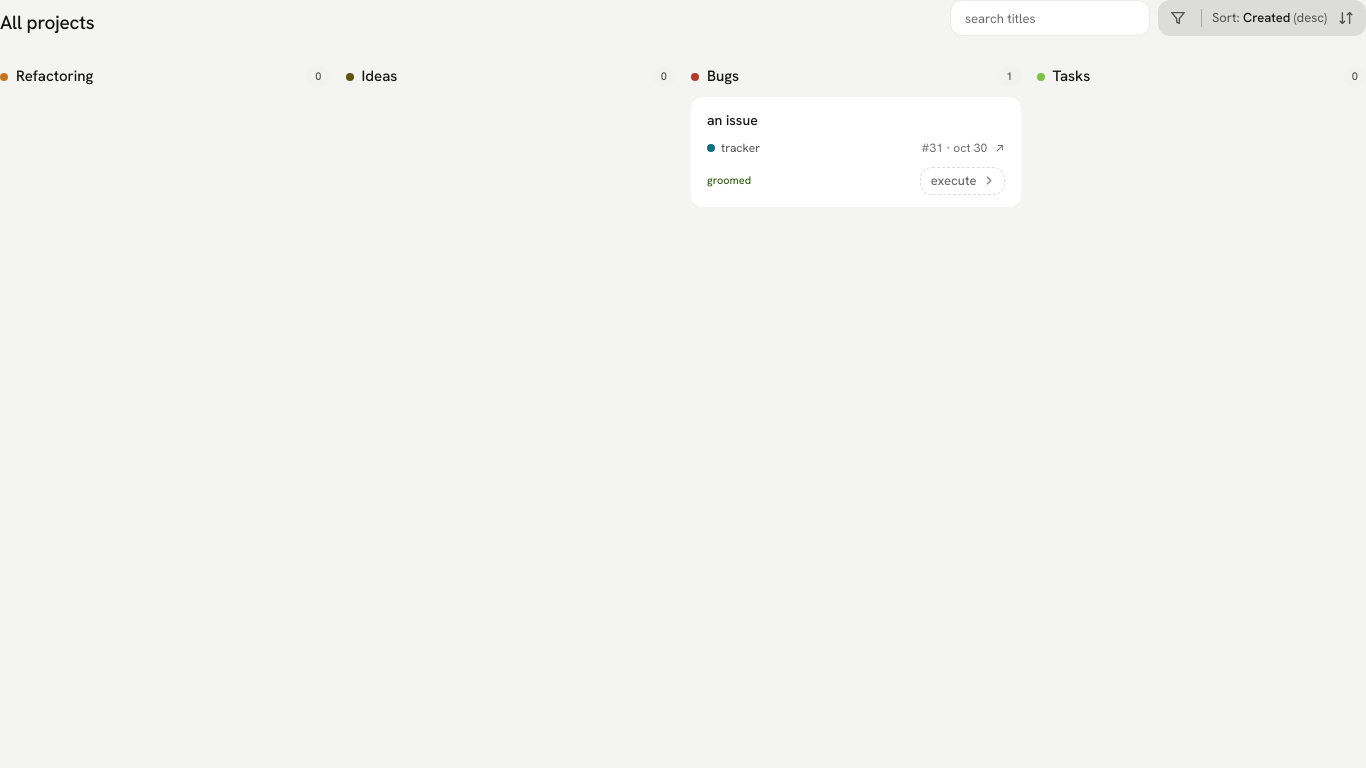
Test: a tracker project whose sync is off (#17) › disables Orchestrate for the project with the same sentence, and a click opens nothing
This screenshot has width=1366, height=768.
Expected: the text "Bugs" is shown, [707,66,739,87]
Click the button named "Filters" at (1178, 18), box [1161,3,1195,33]
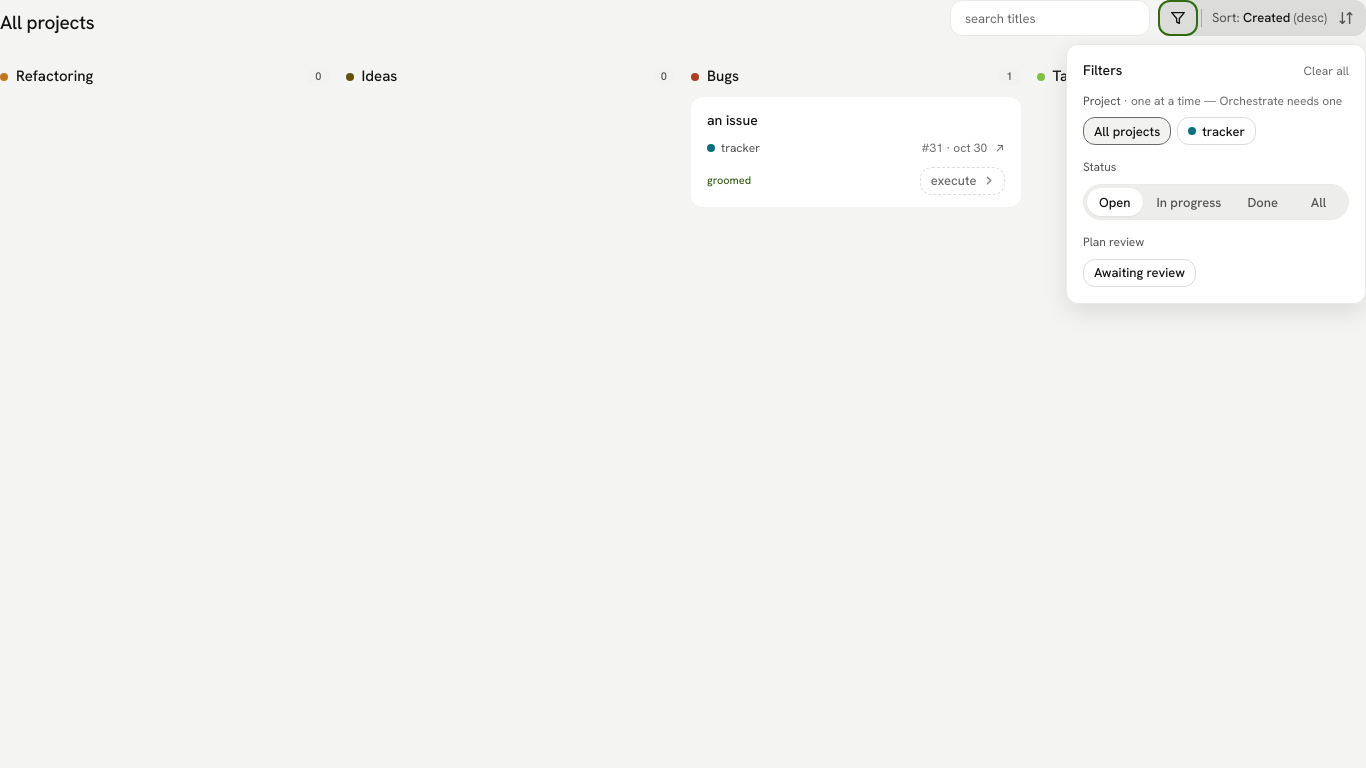
Click the button "tracker" at (1217, 131), box [1177,117,1256,145]
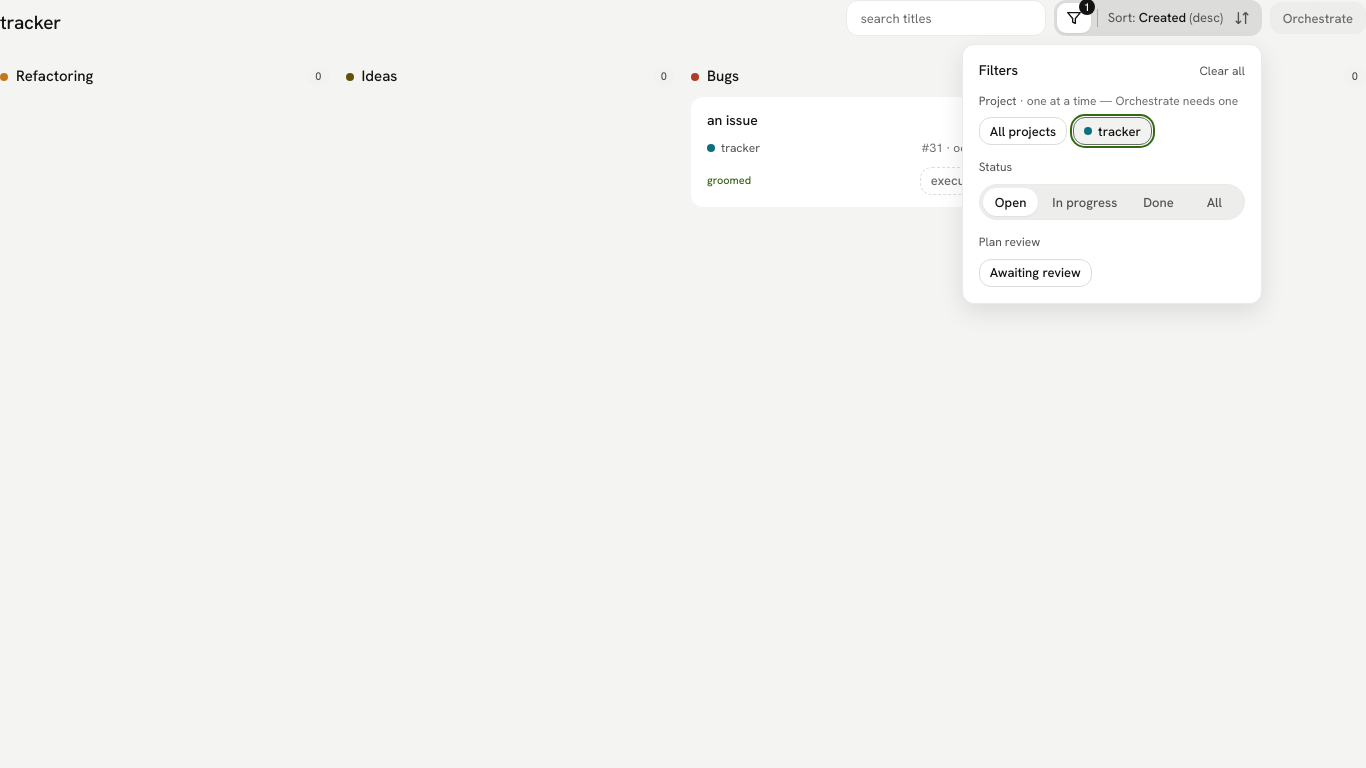
Click the button "Orchestrate" at (1318, 18), box [1270,2,1365,34]
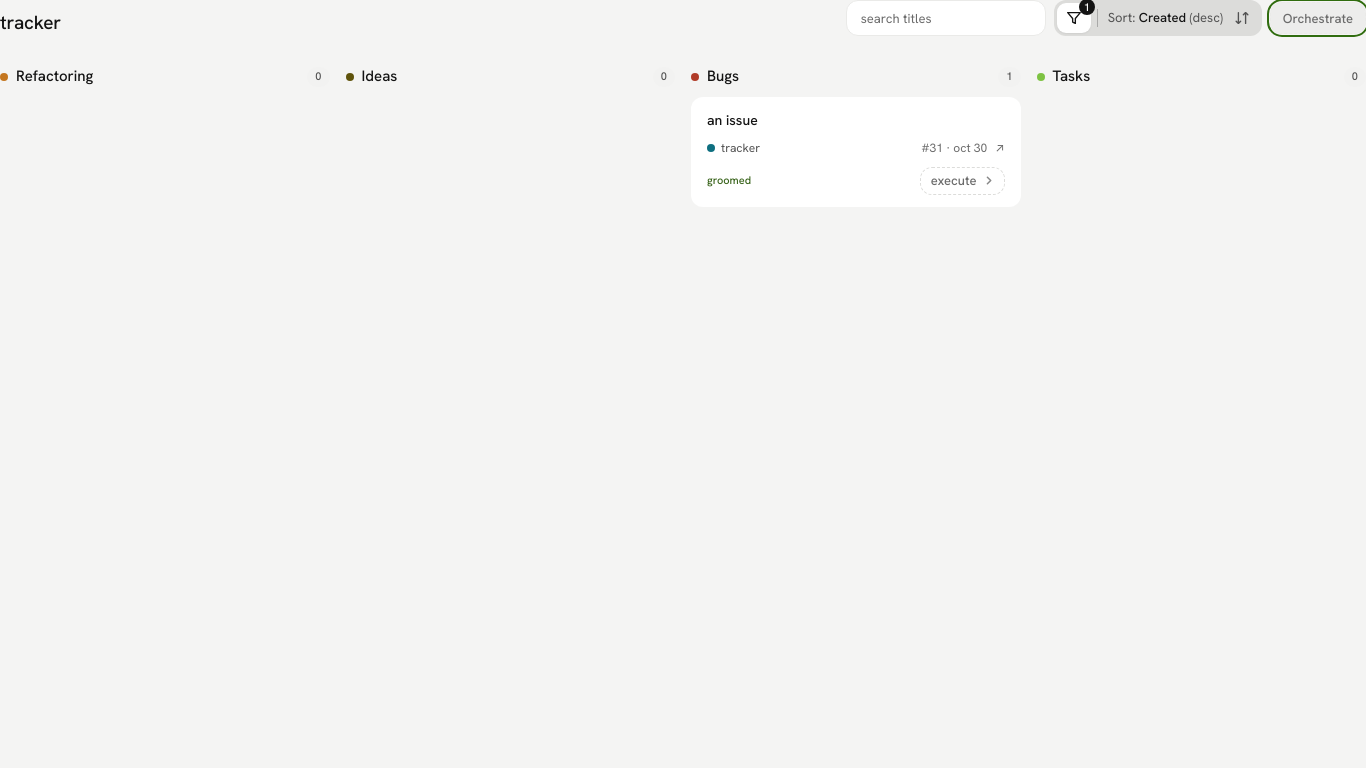
Now the dialog is gone
